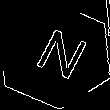N_SW: (23, 23, 87, 87)
